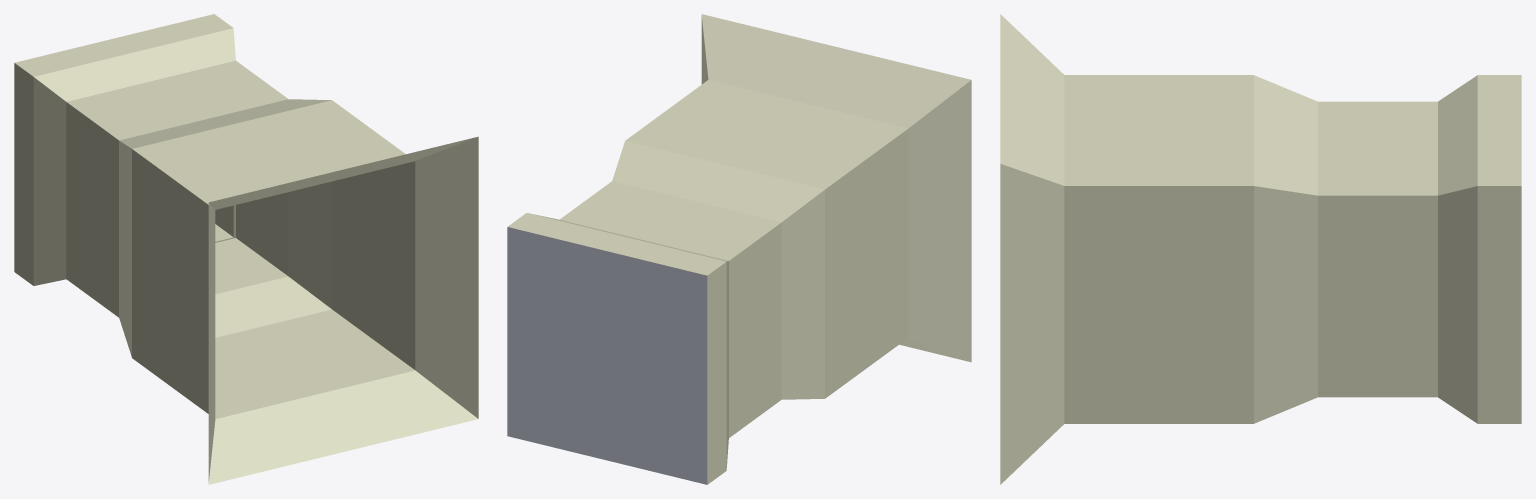
The picture shows the model from 3 angles, left to right: view 1: azimuth 30°, elevation 25°; view 2: azimuth 150°, elevation 25°; view 3: azimuth 270°, elevation 25°; orthographic projection. The views are drawn at different scales.
Parts seen in each view (by area): view 1: Object31; view 2: Object31; view 3: Object31.
Part boxes in pixels (x1,y1,x2,y2): Object31: [14, 14, 478, 484]; Object31: [507, 14, 971, 484]; Object31: [1000, 14, 1521, 484].
Size of the model in its own units: 8084 by 8084 by 11885.
